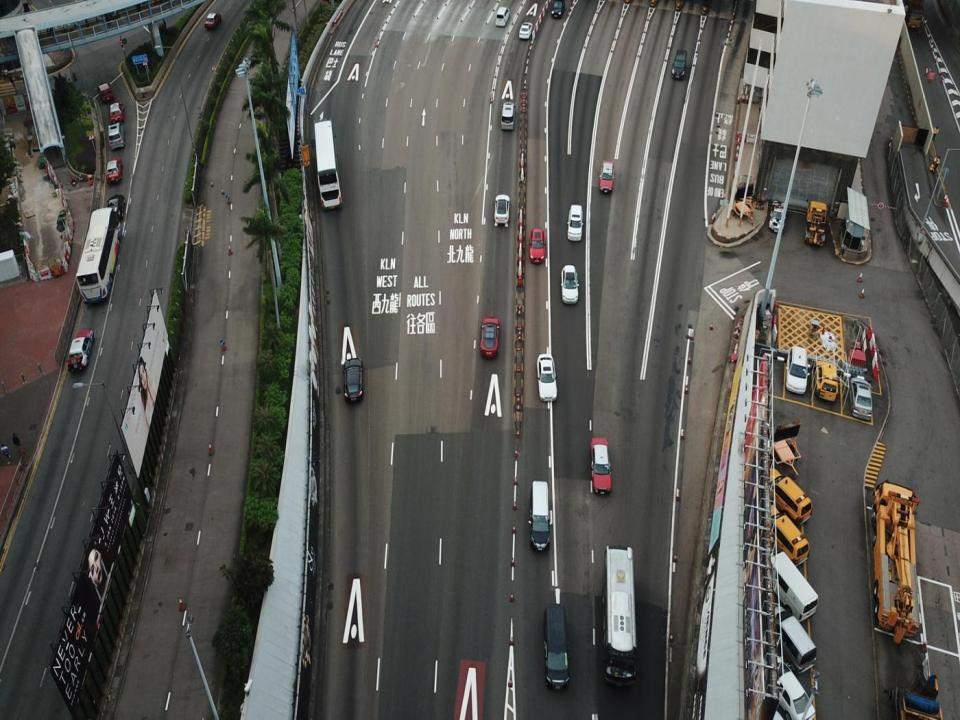bus: (603, 546, 640, 688), (76, 208, 122, 304), (314, 118, 344, 211)
car: (766, 652, 815, 719), (590, 437, 612, 493), (848, 376, 873, 420), (67, 329, 93, 371), (536, 353, 557, 402), (342, 358, 364, 401), (479, 316, 500, 357), (529, 227, 546, 265), (768, 200, 787, 231), (599, 160, 615, 193), (106, 195, 126, 221), (493, 195, 510, 224), (106, 157, 122, 183), (108, 100, 124, 122), (97, 83, 114, 103), (204, 13, 222, 28), (518, 21, 533, 38), (551, 1, 565, 19)
truck: (872, 478, 920, 643), (804, 198, 828, 247), (906, 1, 925, 30)
van: (767, 548, 818, 622), (765, 605, 817, 674), (760, 504, 810, 566), (761, 468, 812, 524), (544, 602, 571, 690), (528, 481, 550, 551), (786, 345, 810, 395), (815, 360, 838, 401), (560, 264, 580, 302), (567, 205, 584, 241), (672, 49, 688, 80), (106, 122, 124, 149), (501, 102, 517, 131), (495, 6, 510, 26)
